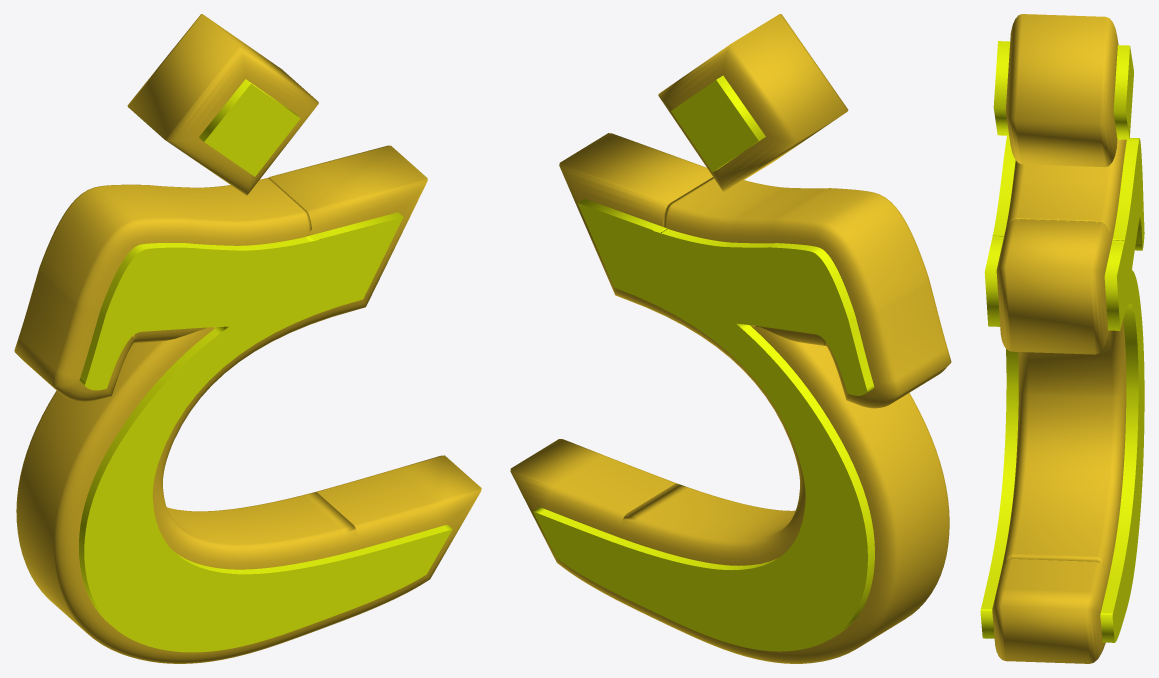
3 views of the same model, side by side, from view 1: azimuth 30°, elevation 25°; view 2: azimuth 150°, elevation 25°; view 3: azimuth 270°, elevation 25° (orthographic).
Parts seen in each view (by area): view 1: text 2, Text; view 2: text 2, Text; view 3: text 2, Text.
Part boxes in pixels (x1=…): text 2: x1=14, y1=14, x2=481, y2=663; Text: x1=79, y1=79, x2=452, y2=652; text 2: x1=510, y1=14, x2=951, y2=663; Text: x1=532, y1=75, x2=874, y2=651; text 2: x1=992, y1=14, x2=1126, y2=663; Text: x1=980, y1=41, x2=1144, y2=642.
Size of the model in its own units: 43.43 by 60.62 by 15.07.
